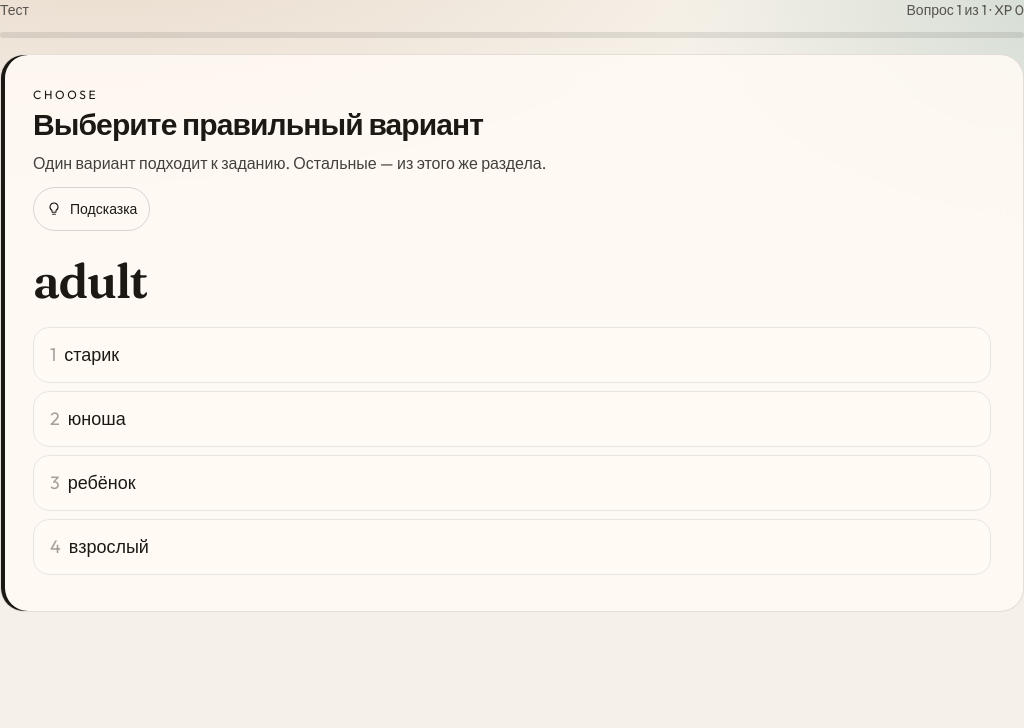
Test: начисление XP › после двух ошибок не даёт XP и помечает слово для повторения
What coordinates should you click on to do the following:
click the button "3ребёнок"
I would click on:
 (102, 482)
Its box is [33,455,991,511].
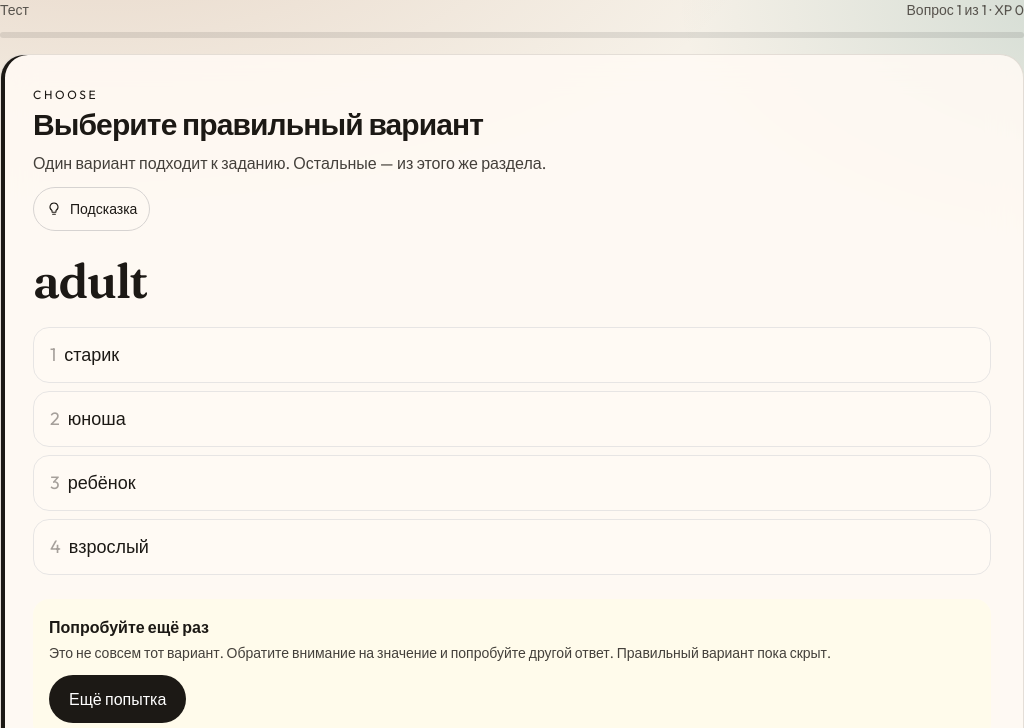
Expected: the button "Ещё попытка" is shown
What coordinates should you click on to do the following:
click the button "Ещё попытка"
I would click on:
 (118, 699)
Its box is [49,675,186,723].
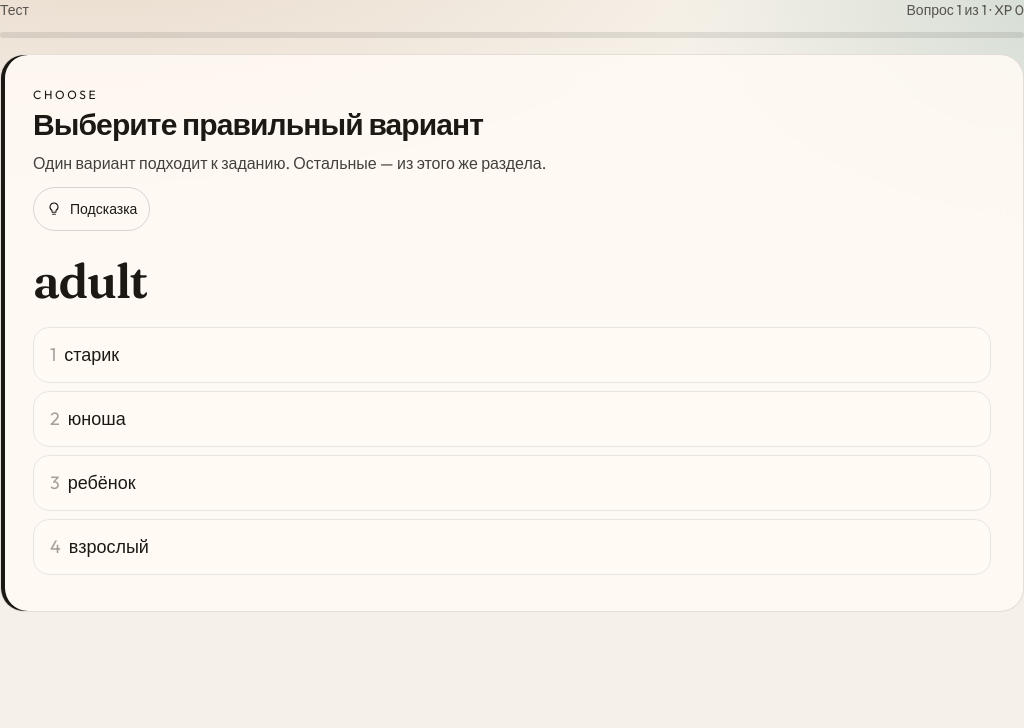
What coordinates should you click on to do the following:
click the button "2юноша"
I would click on:
 (97, 418)
Its box is [33,391,991,447].
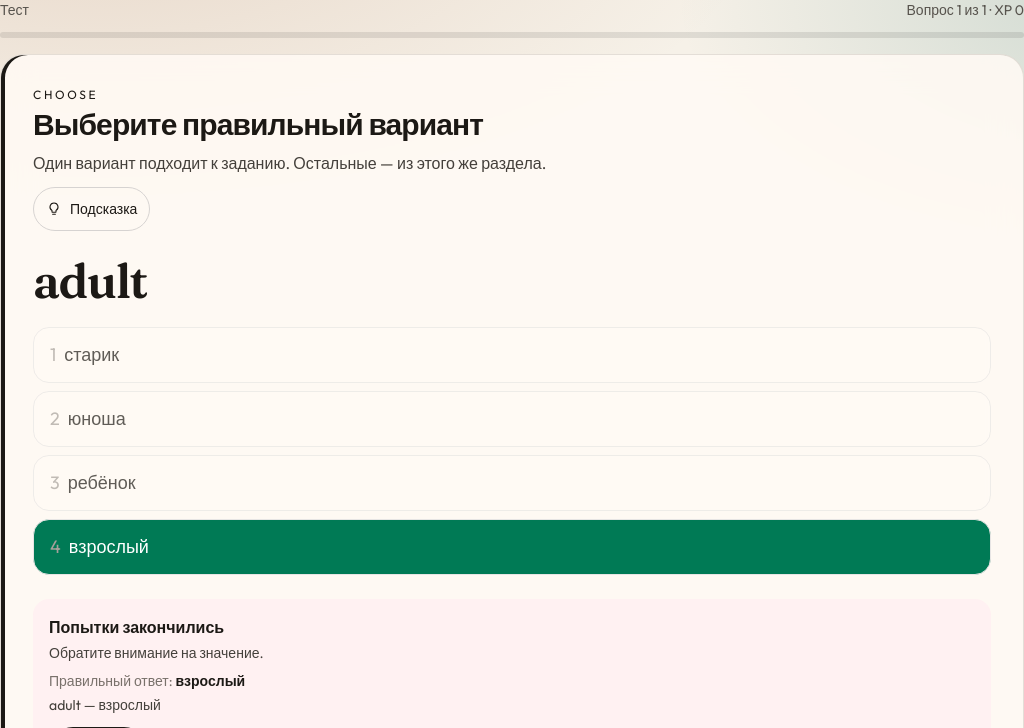
Expected: the text "Попытки закончились" is shown, [49,617,224,637]
